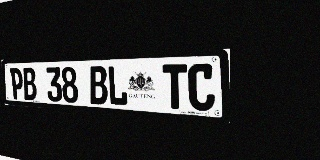3: (46, 67, 62, 102)
8: (61, 66, 78, 103)
B: (89, 66, 108, 105), (22, 67, 37, 100)
C: (188, 63, 215, 112)
L: (107, 65, 128, 106)
P: (10, 68, 24, 100)
T: (162, 64, 187, 110)
